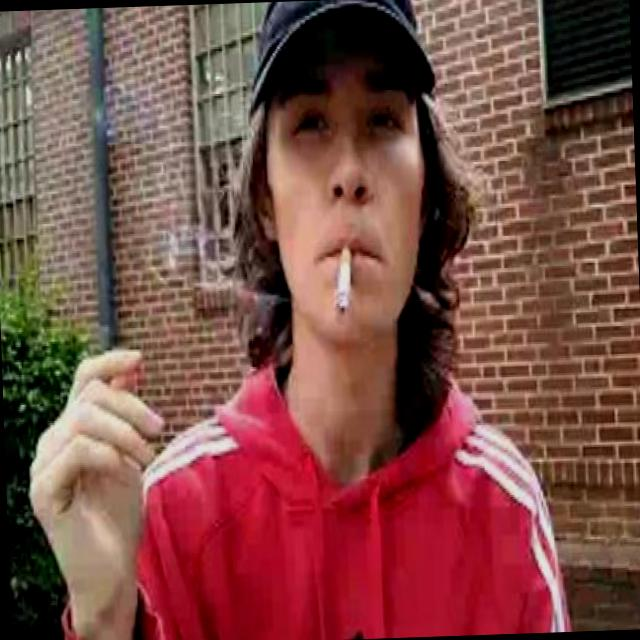smoke: (320, 216, 365, 330)
